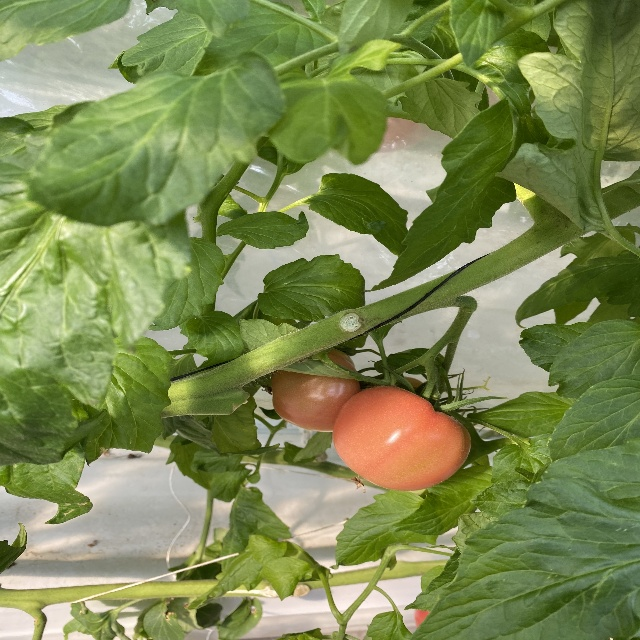b_fully_ripened: (332, 386, 472, 491)
b_half_ripened: (271, 347, 360, 432)
